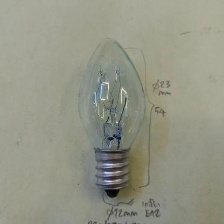light_bulb: (73, 34, 151, 202)
